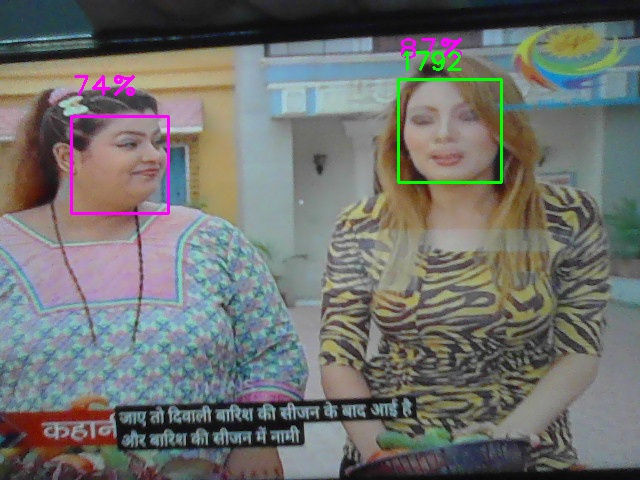fake: (398, 79, 502, 183)
